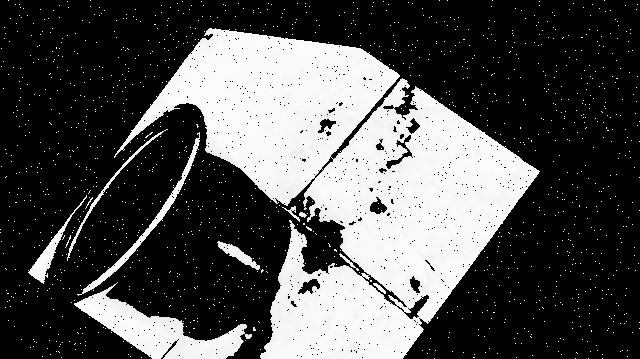pot: (44, 101, 290, 339)
